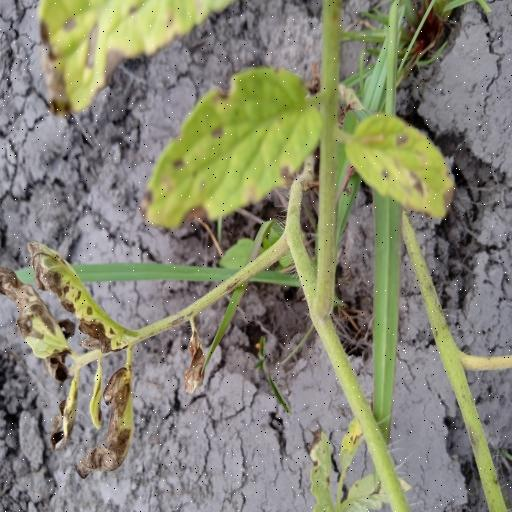Tomato_Brown_Spots: (154, 66, 319, 234), (346, 112, 456, 223)
